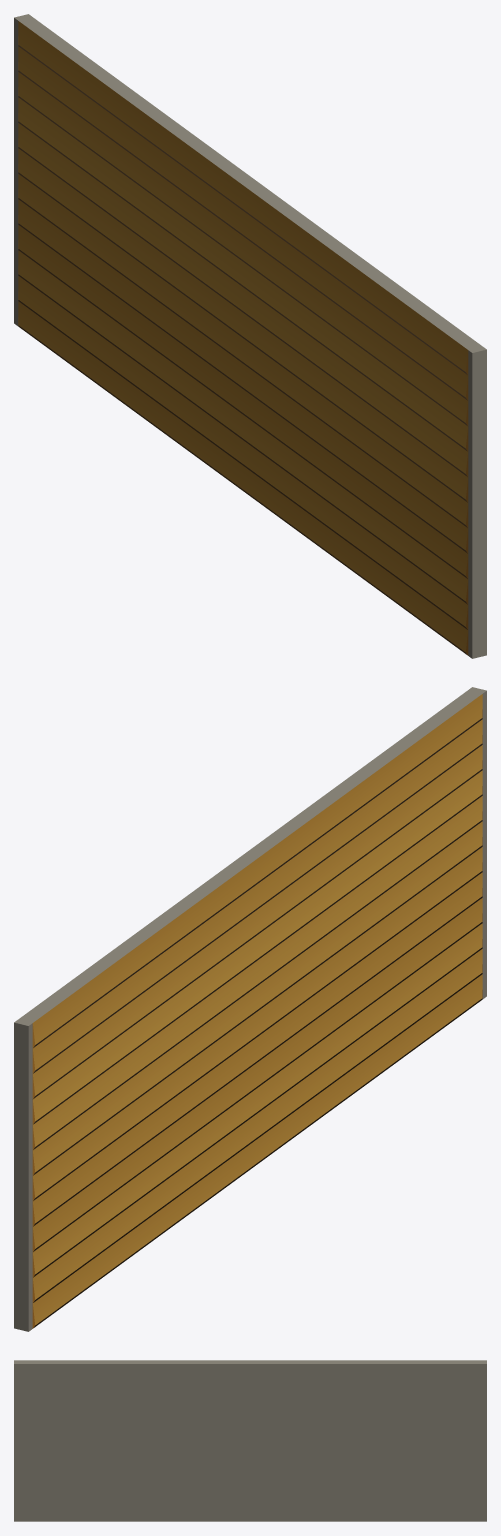
The model's file is TSP_House_Wall_Regular_12B.fbx.
3 renders of one model, top to bottom at view 1: azimuth 30°, elevation 25°; view 2: azimuth 150°, elevation 25°; view 3: azimuth 270°, elevation 25°, orthographic. The views are drawn at different scales.
Parts seen in each view (by area): view 1: TSP_House_Wall_Regular_12B; view 2: TSP_House_Wall_Regular_12B; view 3: TSP_House_Wall_Regular_12B.
Boxes of the visible parts, bbox=[...] form: TSP_House_Wall_Regular_12B: bbox=[14, 14, 486, 658]; TSP_House_Wall_Regular_12B: bbox=[14, 687, 486, 1331]; TSP_House_Wall_Regular_12B: bbox=[14, 1360, 486, 1521].
Bounding box in the file's own units: 0.16 × 3 × 8.15.
